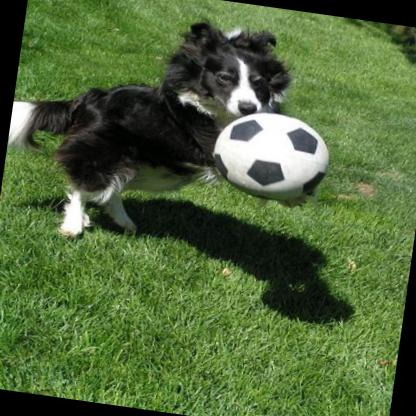collie: (0, 0, 299, 264)
